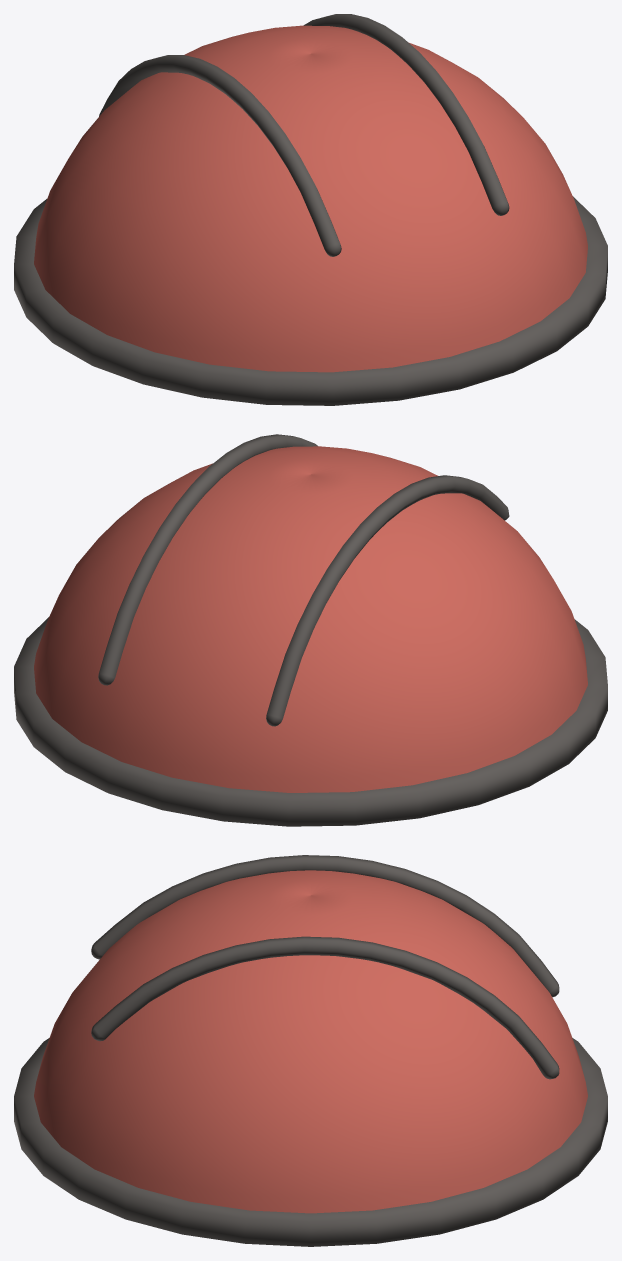
File: bicycle_helmet.glb
3 views of the same model, one above another, from view 1: azimuth 30°, elevation 25°; view 2: azimuth 150°, elevation 25°; view 3: azimuth 270°, elevation 25° (orthographic).
Parts seen in each view (by area): view 1: bicycle_helmet_Head; view 2: bicycle_helmet_Head; view 3: bicycle_helmet_Head.
Boxes of the visible parts, x1,y1,x2,y2 form: bicycle_helmet_Head: [14, 14, 607, 405]; bicycle_helmet_Head: [14, 434, 607, 826]; bicycle_helmet_Head: [14, 855, 607, 1246].
Bounding box in the file's own units: 0.75 × 0.315 × 0.75.
